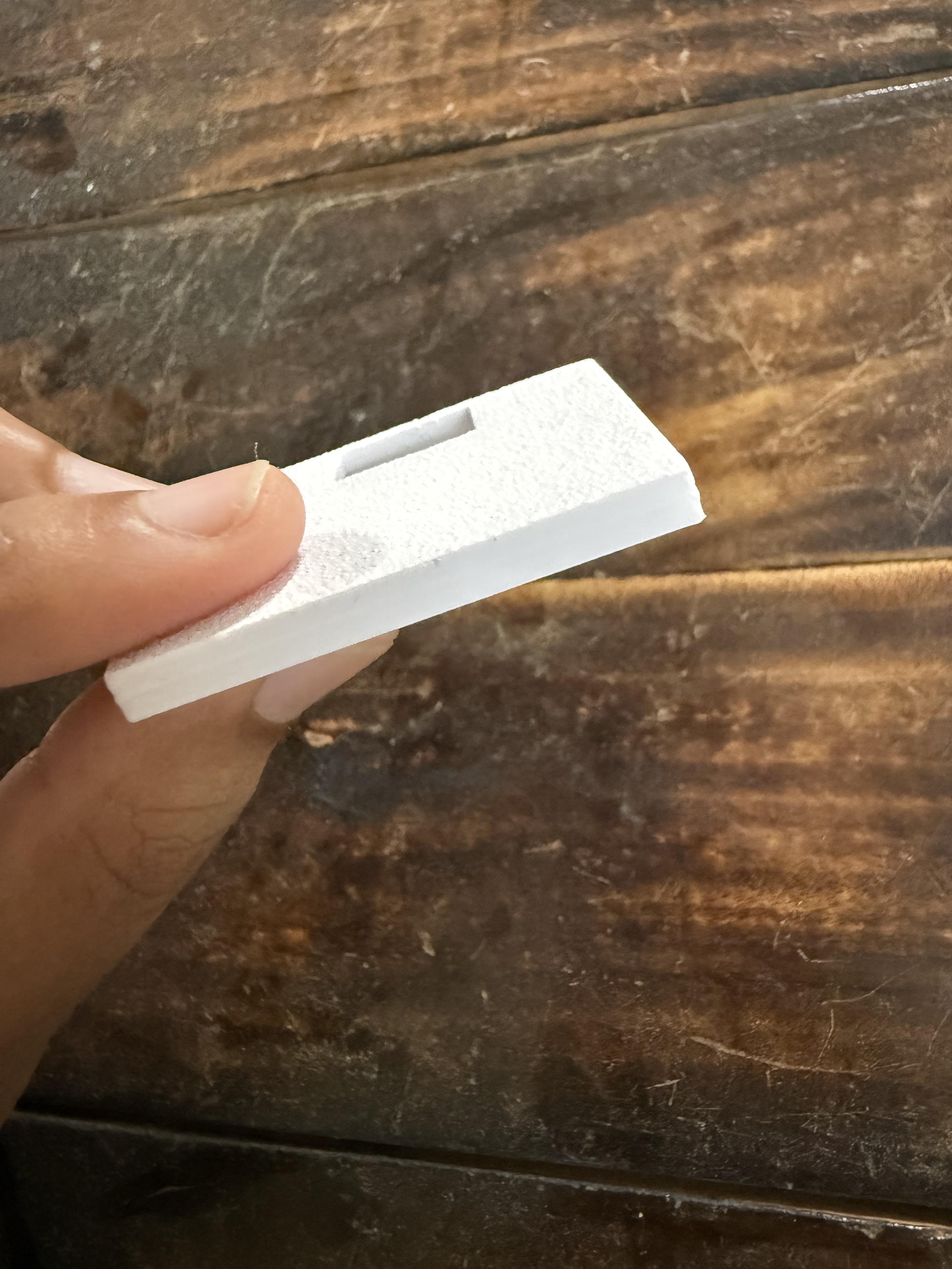enclosure: (102, 358, 706, 724)
